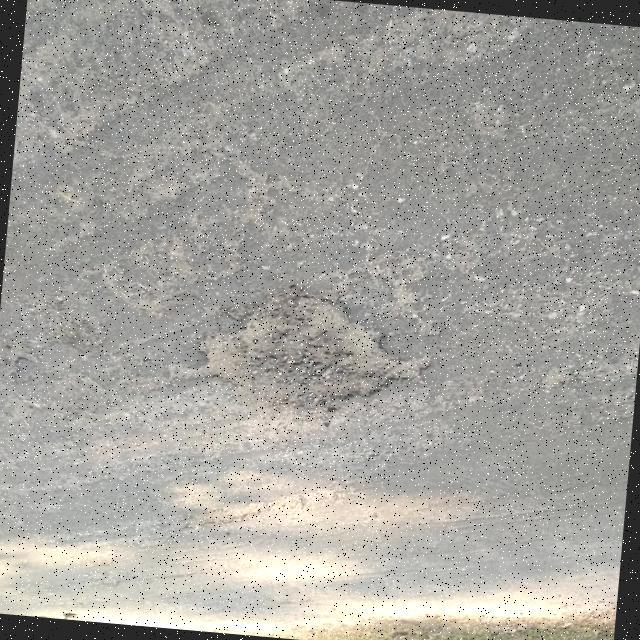Pothole: (169, 289, 430, 405)
